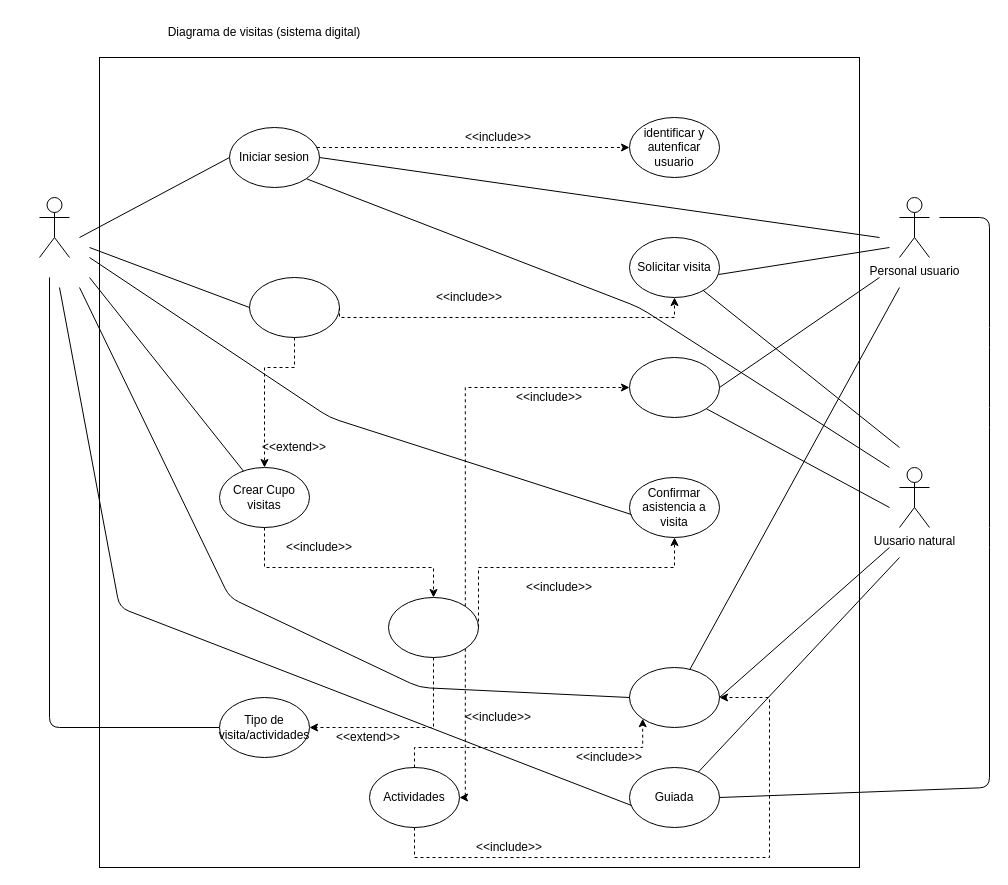
This 1008x885 diagram has some shape labels left out. The shapes that lost their labels are listed below. From the top down, each one's centre as x and y in pixels, then its label:
At [54,227]: "Administrador".
At [294,307]: "Validar solicitud".
At [674,387]: "Notificacion de visita".
At [433,627]: "Visita".
At [674,697]: "Talleres".
